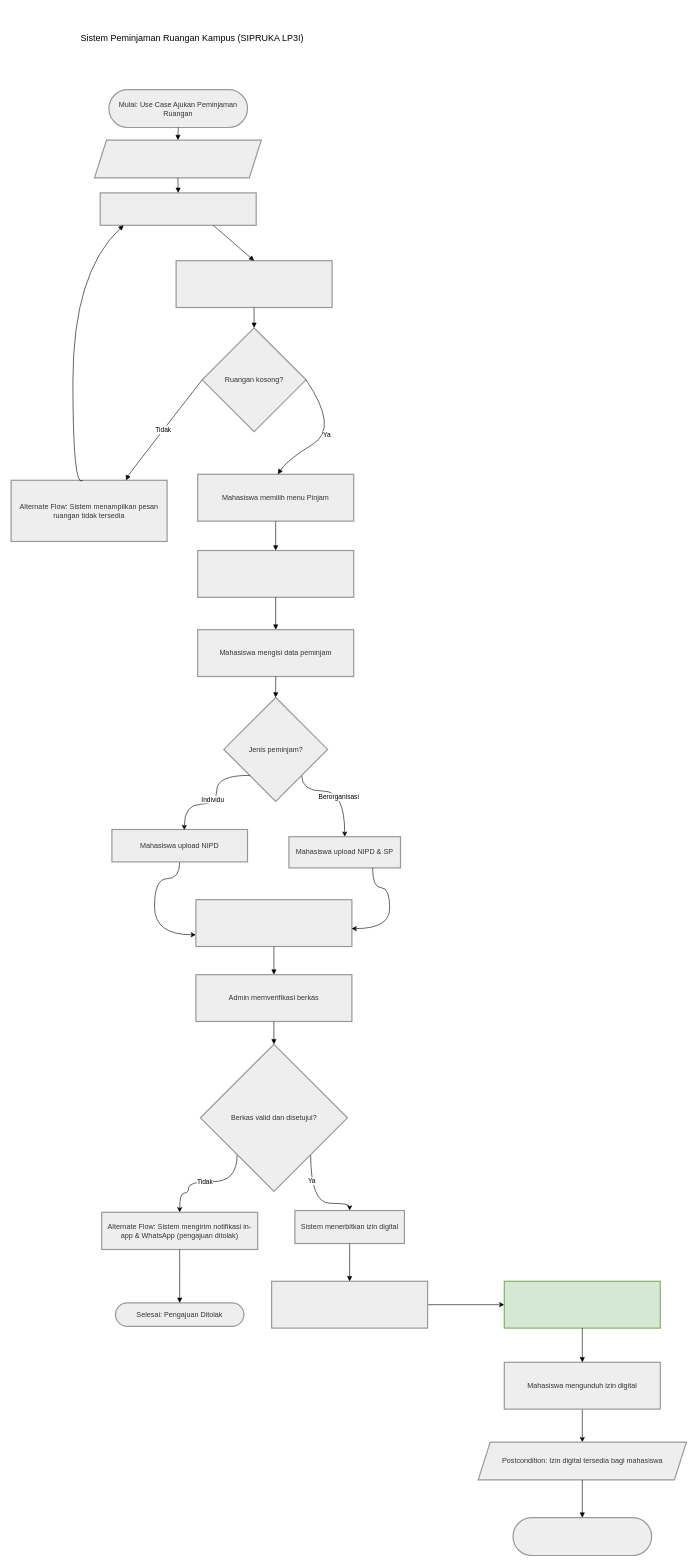
Some shapes in this 697 by 1566 pixel diagram are drawn without their labels. Here are the shapes that lost their labels. From the top down, the centre of each, then its label:
At (x=178, y=158): "Precondition: Mahasiswa sudah login".
At (x=177, y=209): "Mahasiswa memilih ruangan".
At (x=253, y=284): "Sistem mengecek jadwal ruangan".
At (x=275, y=574): "Mahasiswa mengisi waktu peminjaman".
At (x=273, y=923): "Sistem menyimpan pengajuan".
At (x=349, y=1304): "Sistem membuat notifikasi in-app untuk mahasiswa".
At (x=582, y=1304): "Sistem mengirim pesan WhatsApp via Fonnte API ke mahasiswa".
At (x=582, y=1536): "Selesai: Pengajuan Disetujui".
